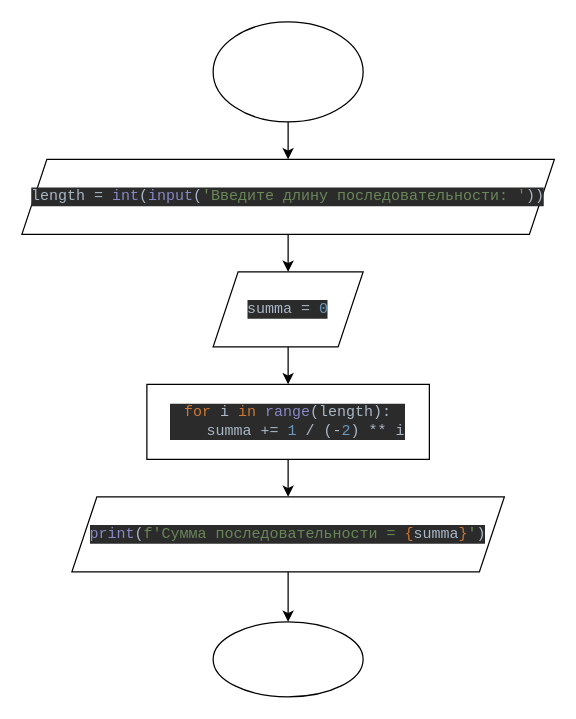
The diagram is 576 pixels wide and 719 high, and some of its shapes have lost their labels. Here are the shapes that lost their labels. From the top down, the centre of each, then its label:
At (x=287, y=71): "Начало".
At (x=287, y=659): "Конец".
